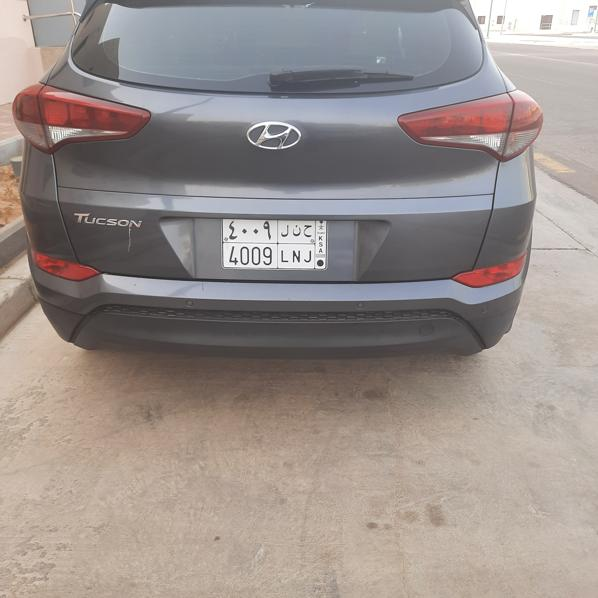numberplate: (222, 218, 327, 269)
